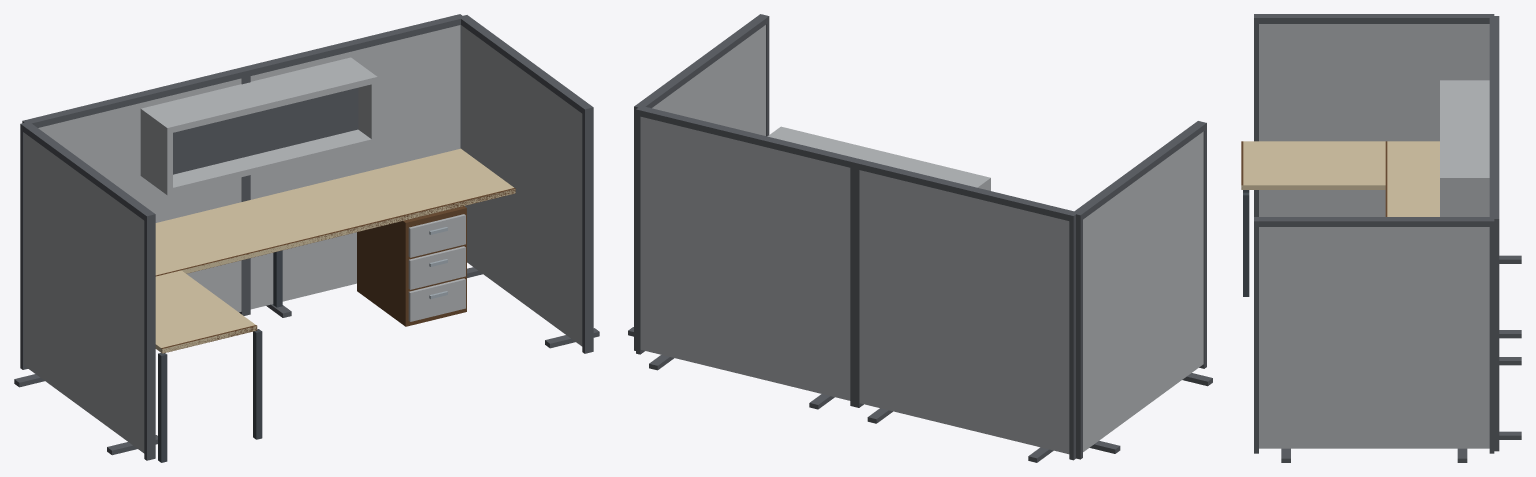
The model's file is GO_Cubicle_Pod_01.glb.
The picture shows the model from 3 angles, left to right: view 1: azimuth 30°, elevation 25°; view 2: azimuth 150°, elevation 25°; view 3: azimuth 270°, elevation 25°; orthographic projection. The views are drawn at different scales.
Visible parts, largest first — view 1: GO_Cubicle_Pod_01; view 2: GO_Cubicle_Pod_01; view 3: GO_Cubicle_Pod_01.
Boxes of the visible parts, box(x1,y1,x2,y2) form: GO_Cubicle_Pod_01: box(14, 14, 599, 462); GO_Cubicle_Pod_01: box(628, 14, 1212, 462); GO_Cubicle_Pod_01: box(1241, 14, 1521, 462).
Size of the model in its own units: 3.34 by 1.6 by 1.75.
Materials: 1 (1 with a texture image).
